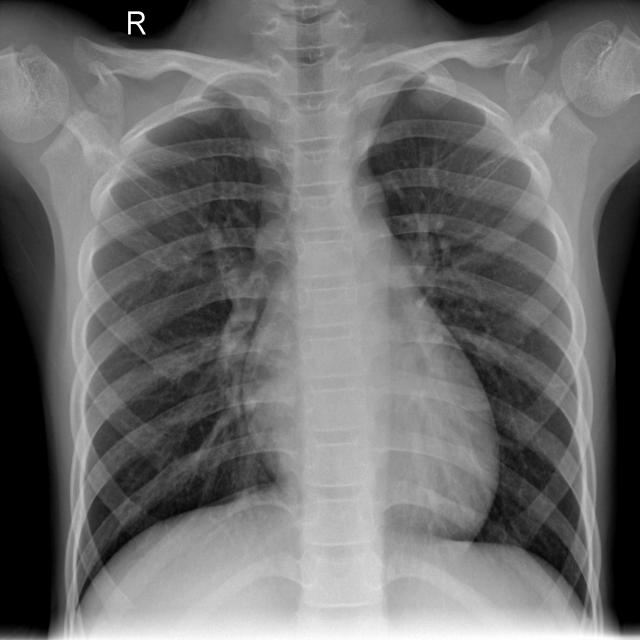no-pneumonia: (369, 78, 602, 619), (69, 106, 281, 614)
